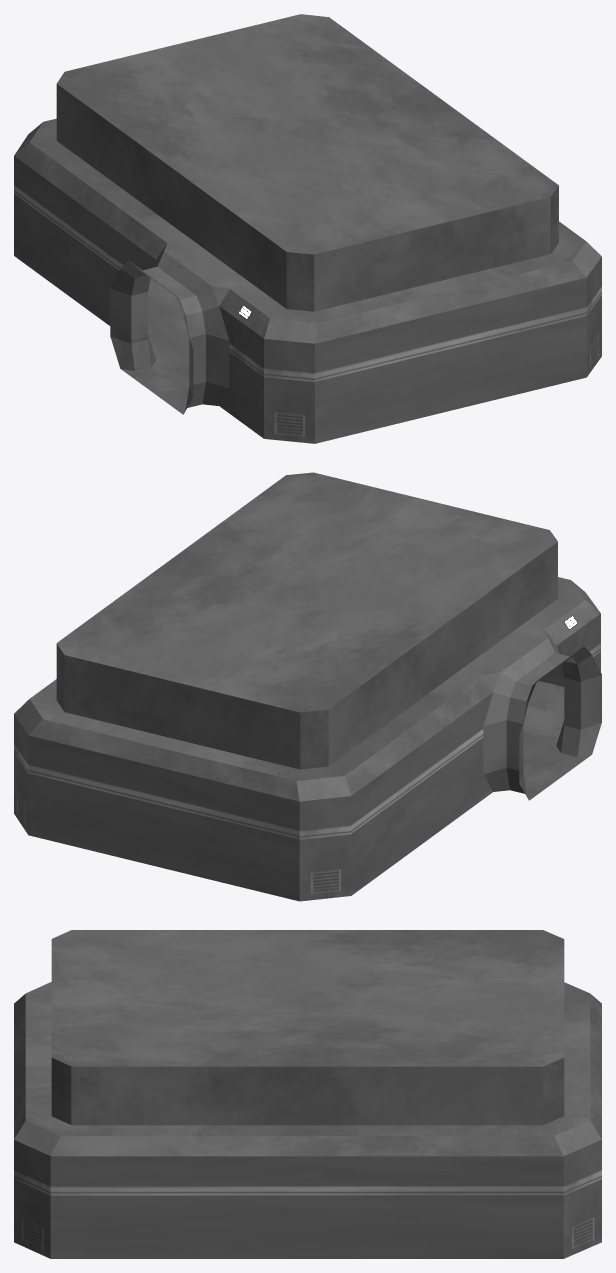
File: lab_room.fbx
The picture shows the model from 3 angles, top to bottom: view 1: azimuth 30°, elevation 25°; view 2: azimuth 150°, elevation 25°; view 3: azimuth 270°, elevation 25°; orthographic projection. The views are drawn at different scales.
Parts seen in each view (by area): view 1: hallway_oct.015; view 2: hallway_oct.015; view 3: hallway_oct.015.
Part boxes in pixels (left/top/right/bottom): hallway_oct.015: left=14, top=14, right=601, bottom=443; hallway_oct.015: left=14, top=472, right=601, bottom=901; hallway_oct.015: left=14, top=930, right=601, bottom=1258.
Bounding box in the file's own units: 1369 × 600 × 1816.
1 material, 1 textured.
